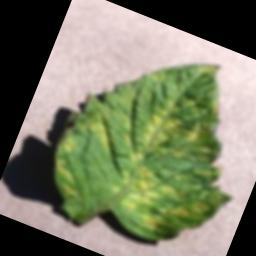Leaf_Mold: (33, 20, 256, 256)
